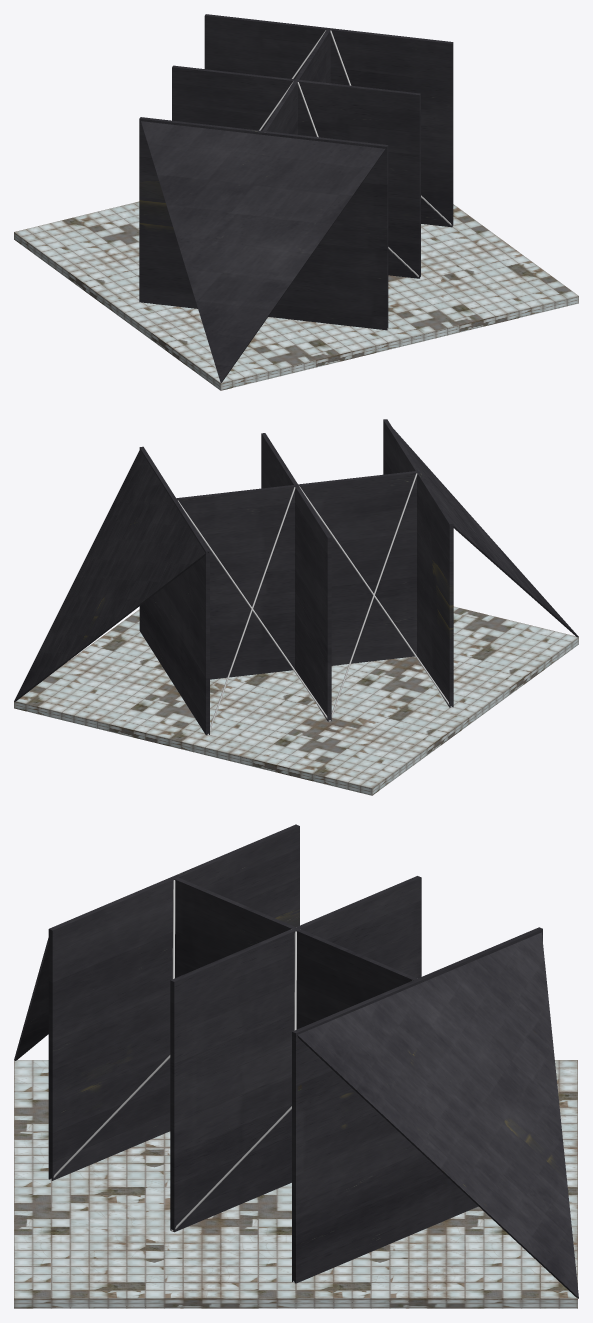
File: Modern_Geometric_Structure_Model.glb
3 views of the same model, one above another, from view 1: azimuth 30°, elevation 25°; view 2: azimuth 150°, elevation 25°; view 3: azimuth 270°, elevation 25° (orthographic). The views are drawn at different scales.
Parts seen in each view (by area): view 1: unnamed (×3); view 2: unnamed (×3); view 3: unnamed (×3).
Boxes of the visible parts, box(x1,y1,x2,y2) form: unnamed (×3): box(14, 14, 578, 390); unnamed (×3): box(14, 419, 578, 795); unnamed (×3): box(14, 824, 578, 1308).
Bounding box in the file's own units: 500 × 255 × 501.
3 materials, 2 textured.
